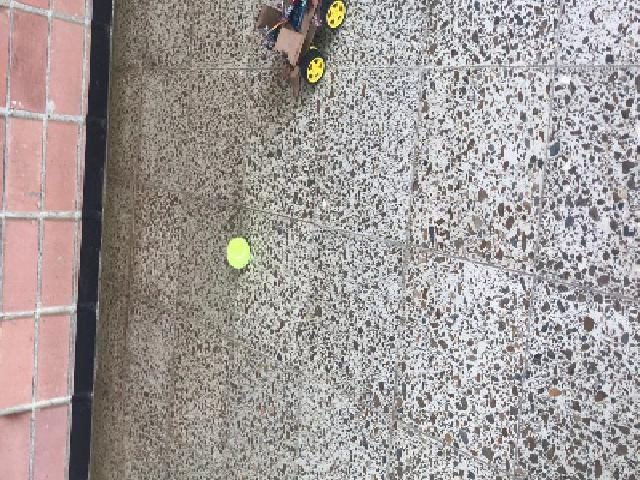Ball: (227, 238, 248, 268)
Robot: (254, 0, 346, 95)
